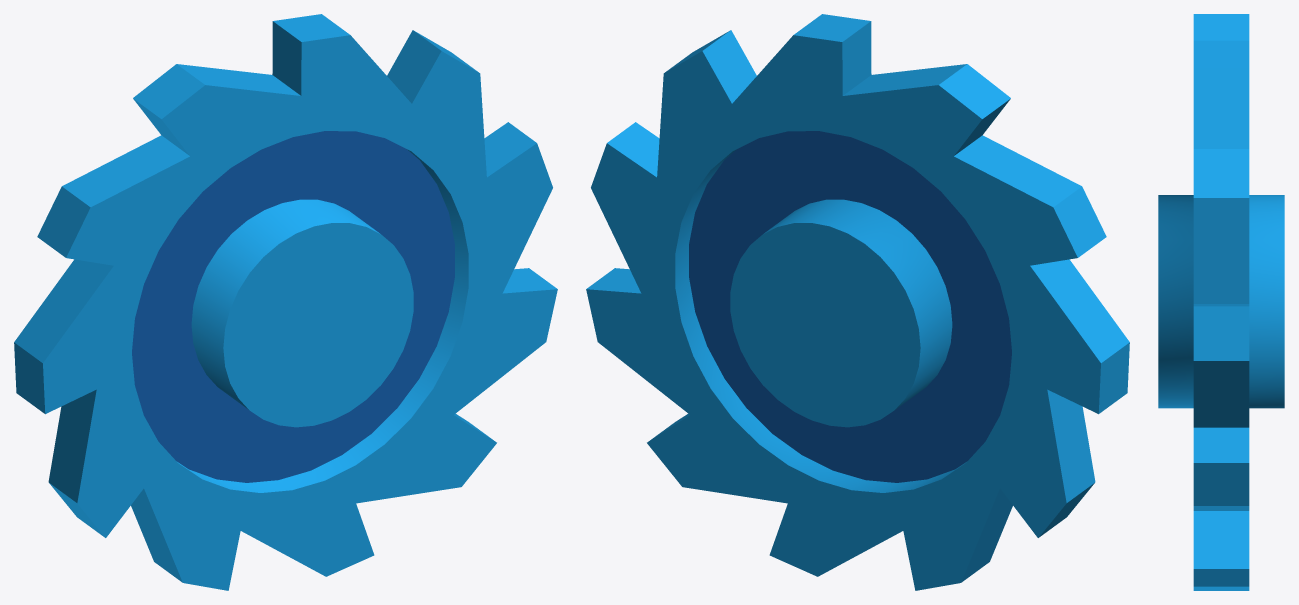
File: Gimmick_02.fbx
3 renders of one model, left to right at view 1: azimuth 30°, elevation 25°; view 2: azimuth 150°, elevation 25°; view 3: azimuth 270°, elevation 25°, orthographic. The views are drawn at different scales.
Parts seen in each view (by area): view 1: Cylinder.001; view 2: Cylinder.001; view 3: Cylinder.001.
Boxes of the visible parts, bbox=[...] form: Cylinder.001: bbox=[14, 14, 557, 590]; Cylinder.001: bbox=[586, 14, 1129, 590]; Cylinder.001: bbox=[1158, 14, 1284, 590].
Bounding box in the file's own units: 3.18 × 3.19 × 0.6955.
